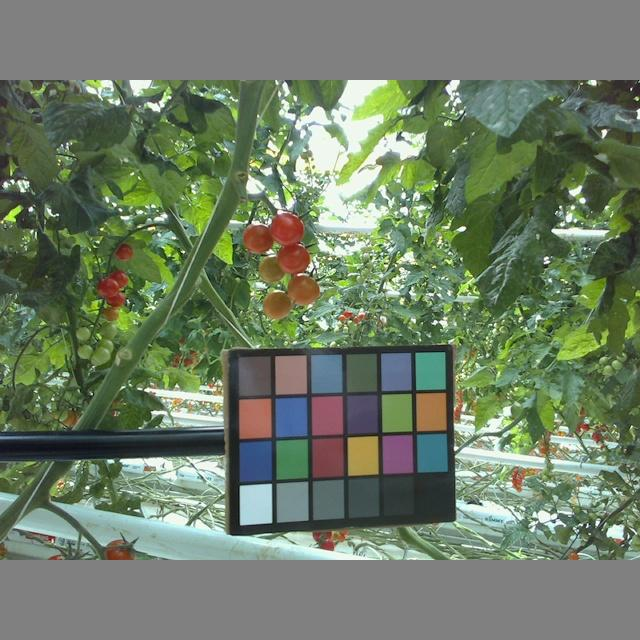green: (256, 254, 290, 283)
pink: (284, 274, 321, 304), (270, 213, 304, 245), (274, 240, 309, 271), (242, 221, 274, 253), (262, 292, 294, 319)
